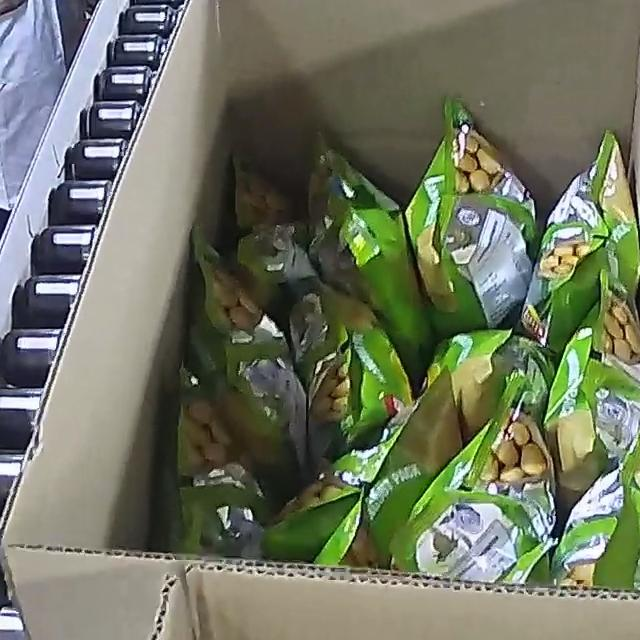yogurt: (169, 95, 640, 591)
